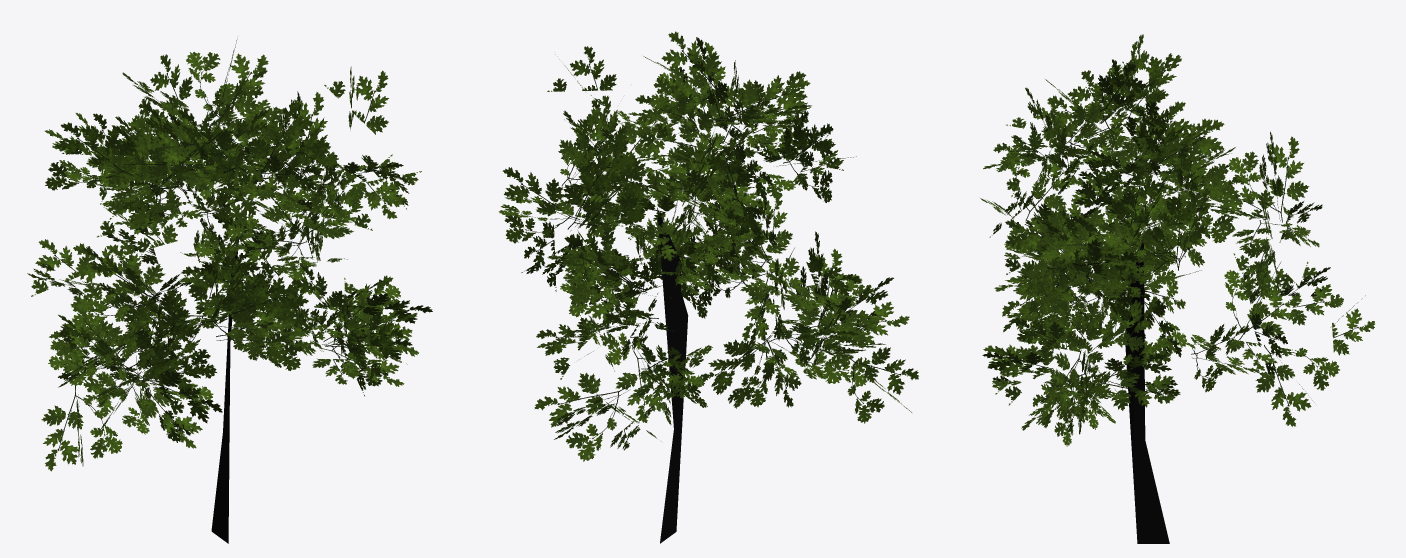
File: maple1 lod3.FBX
3 renders of one model, left to right at view 1: azimuth 30°, elevation 25°; view 2: azimuth 150°, elevation 25°; view 3: azimuth 270°, elevation 25°, orthographic. The views are drawn at different scales.
Visible parts, largest first — view 1: maple1_LOD3; view 2: maple1_LOD3; view 3: maple1_LOD3.
Part boxes in pixels (left/top/right/bottom): maple1_LOD3: left=27, top=39, right=432, bottom=543; maple1_LOD3: left=499, top=31, right=918, bottom=543; maple1_LOD3: left=980, top=34, right=1374, bottom=543.
Size of the model in its own units: 75381 by 95216 by 73413.
